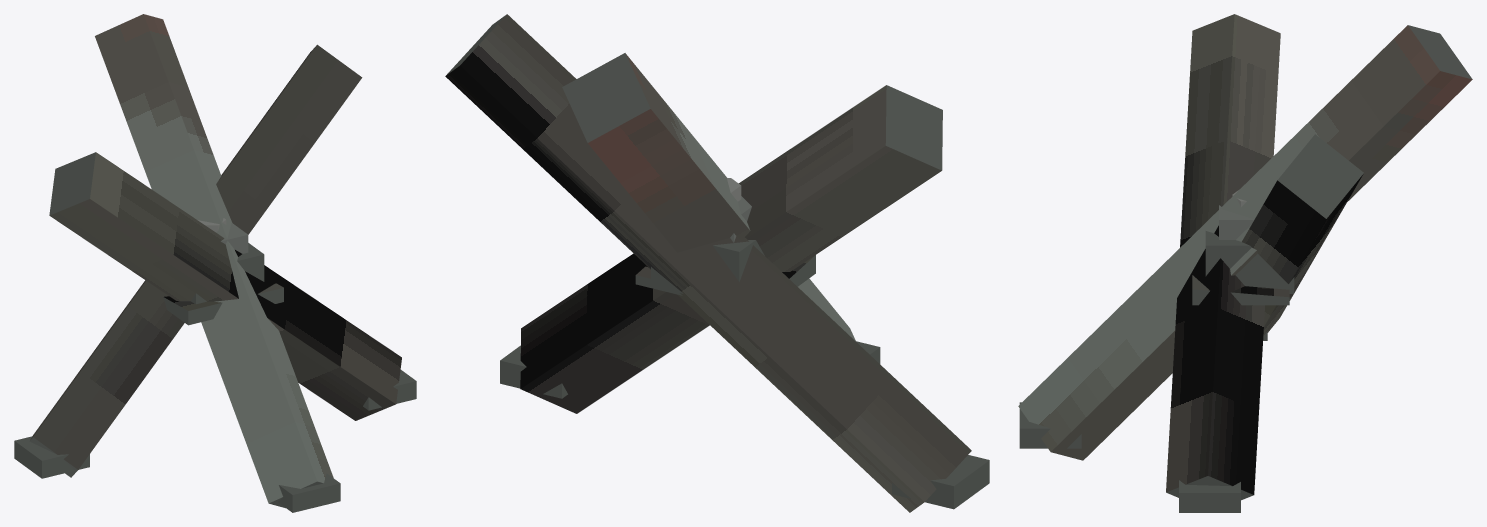
The model's file is Building_AncientTankTrap.glb.
The picture shows the model from 3 angles, left to right: view 1: azimuth 30°, elevation 25°; view 2: azimuth 150°, elevation 25°; view 3: azimuth 270°, elevation 25°; orthographic projection. The views are drawn at different scales.
Visible parts, largest first — view 1: AncientTankTrap; view 2: AncientTankTrap; view 3: AncientTankTrap.
Part boxes in pixels (left/top/right/bottom): AncientTankTrap: left=14, top=14, right=416, bottom=512; AncientTankTrap: left=445, top=14, right=989, bottom=512; AncientTankTrap: left=1018, top=14, right=1472, bottom=512.
Size of the model in its own units: 1.07 by 1.09 by 1.03.
1 material, 1 textured.
